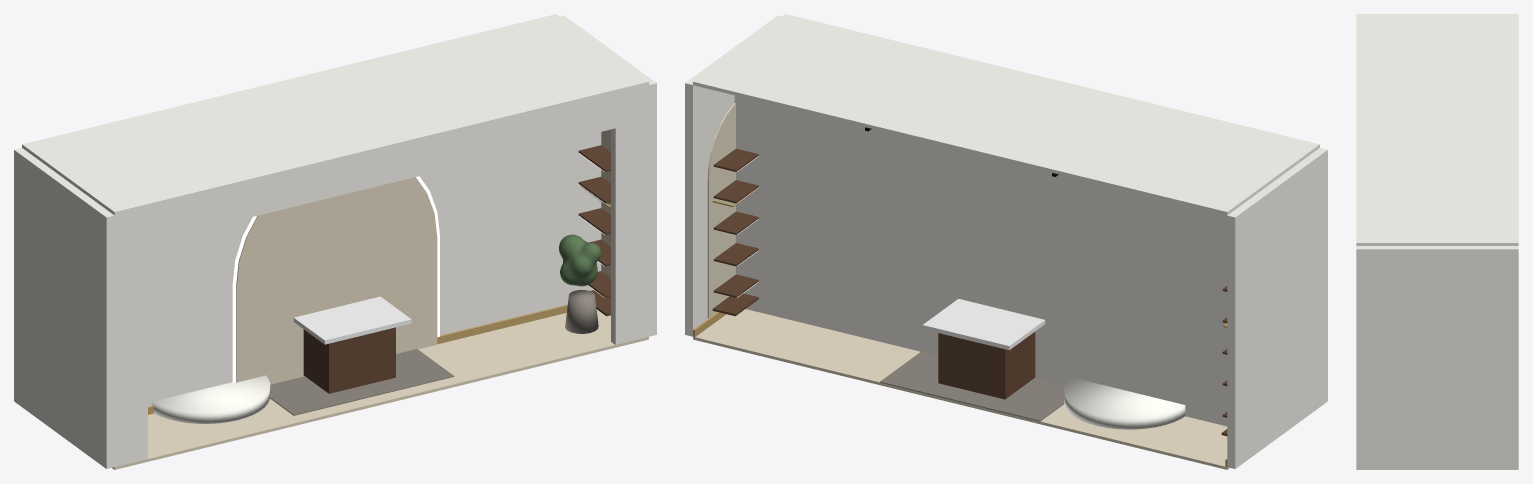
The model's file is fraul_boutique_modules.glb.
The picture shows the model from 3 angles, left to right: view 1: azimuth 30°, elevation 25°; view 2: azimuth 150°, elevation 25°; view 3: azimuth 270°, elevation 25°; orthographic projection. The views are drawn at different scales.
Visible parts, largest first — view 1: Ent_Plafond, Fnd_Mur, Ent_Encadrement, Ent_Murs, Fnd_Arche_Fond, Ent_Sol, Tab_Base, Tab_Tapis, Ent_Podium, Tab_Plateau, Trv_Niche_D_Variante_Etageres, Fnd_Plante_Feuilles_D (+5 smaller); view 2: Fnd_Mur, Ent_Plafond, Ent_Murs, Fnd_Plafond, Ent_Sol, Tab_Base, Tab_Tapis, Ent_Podium, Trv_Niche_D_Fond, Tab_Plateau, Trv_Niche_D_Variante_Etageres; view 3: Ent_Plafond, Ent_Murs, Fnd_Plafond, Fnd_Murs.
Part boxes in pixels (x1,y1,x2,y2): Ent_Plafond: (22,14,648,215); Fnd_Mur: (148,132,601,406); Ent_Encadrement: (114,85,648,466); Ent_Murs: (14,15,656,468); Fnd_Arche_Fond: (236,177,437,384); Ent_Sol: (112,309,648,469); Tab_Base: (303,327,395,393); Tab_Tapis: (270,349,454,415); Ent_Podium: (152,375,270,423); Tab_Plateau: (293,296,411,344); Trv_Niche_D_Variante_Etageres: (578,145,610,297); Fnd_Plante_Feuilles_D: (559,234,601,286); Fnd_Mur: (734,95,1227,426); Ent_Plafond: (693,14,1314,215); Ent_Murs: (685,15,1327,468); Fnd_Plafond: (739,14,1319,179); Ent_Sol: (693,309,1229,469); Tab_Base: (938,332,1035,399); Tab_Tapis: (880,351,1064,421); Ent_Podium: (1064,377,1185,429); Trv_Niche_D_Fond: (707,103,735,317); Tab_Plateau: (922,299,1045,350); Trv_Niche_D_Variante_Etageres: (713,148,758,297); Ent_Plafond: (1356,14,1518,245); Ent_Murs: (1356,14,1518,469); Fnd_Plafond: (1356,14,1437,245); Fnd_Murs: (1356,14,1437,469).
Size of the model in its own units: 8.24 by 3.69 by 2.4.
